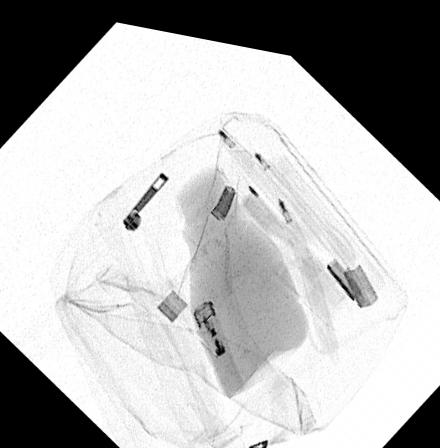Lighter: (191, 290, 243, 387)
